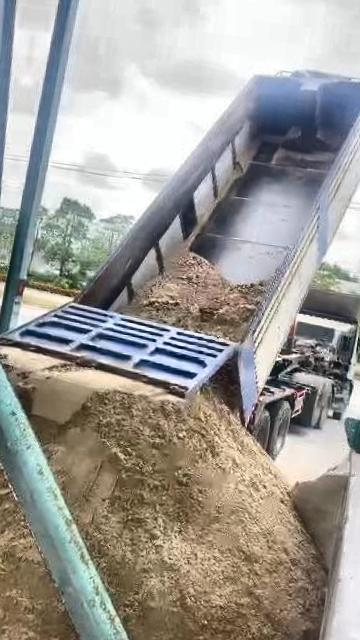sand: (33, 389, 325, 640), (0, 436, 89, 640), (0, 347, 166, 424), (124, 252, 263, 341), (294, 467, 348, 569), (209, 355, 238, 410)
